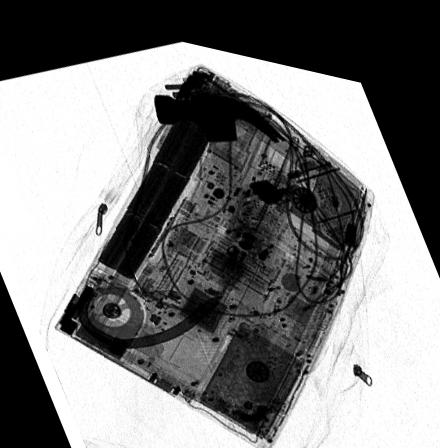Hammer: (152, 84, 288, 390)
